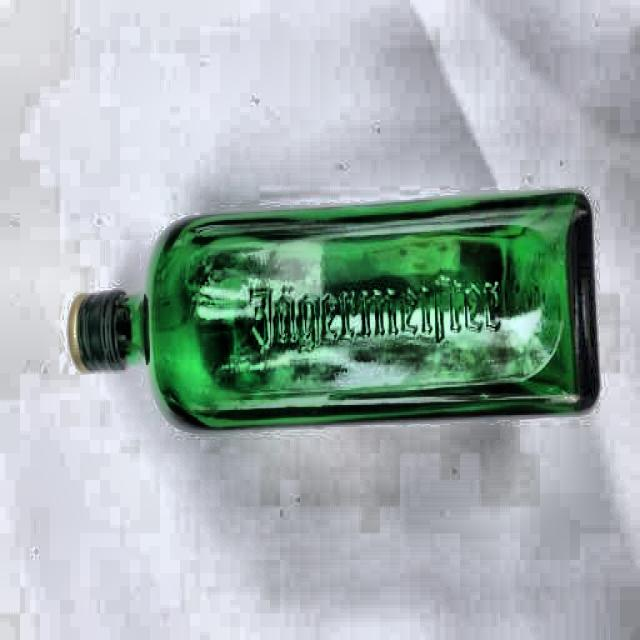glass: (66, 181, 604, 425)
